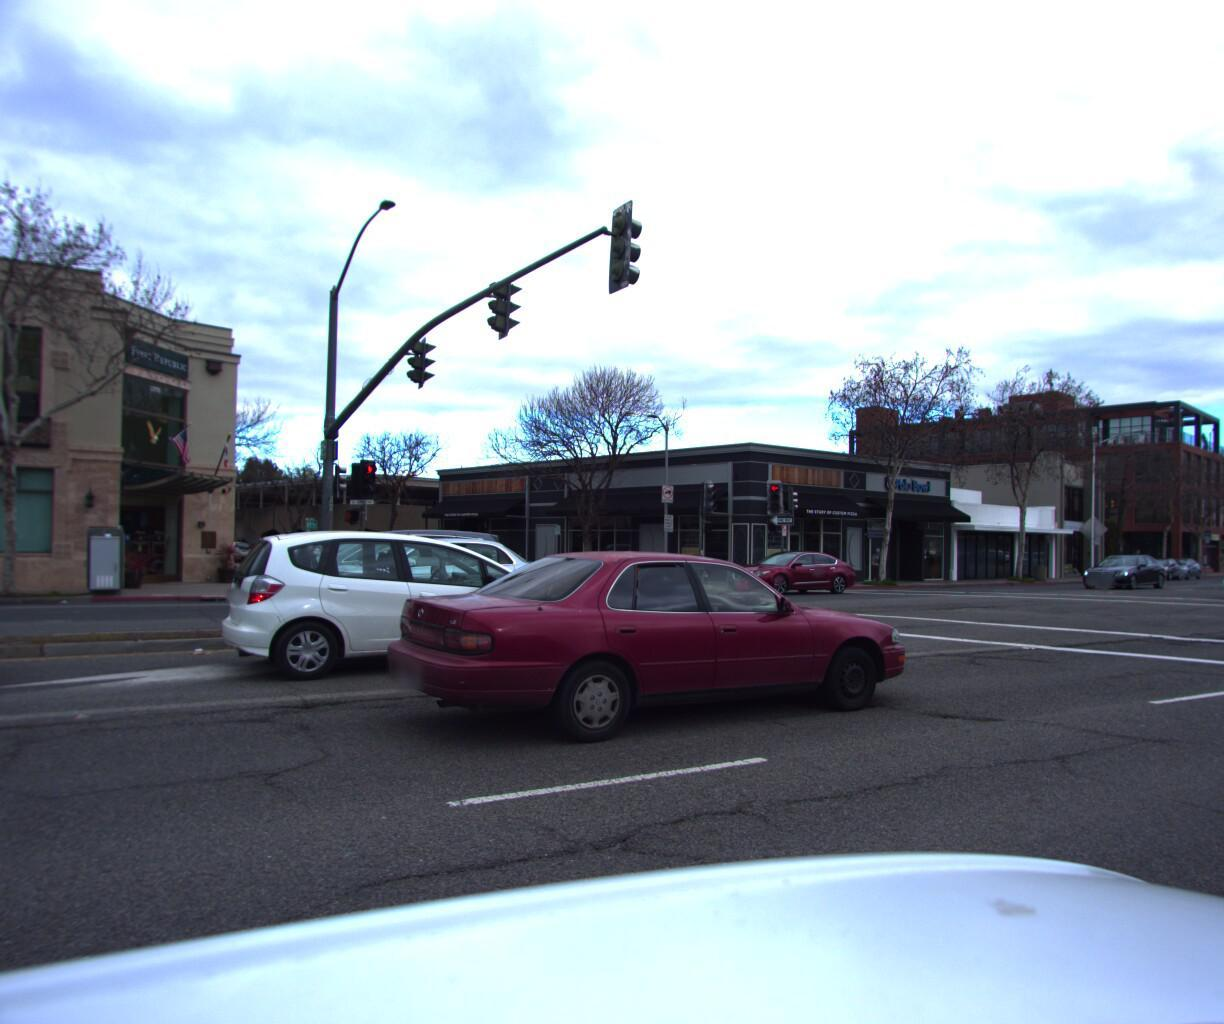car: (359, 529, 916, 761), (207, 522, 626, 691), (263, 520, 582, 624), (315, 510, 547, 601), (717, 543, 857, 595), (1073, 550, 1165, 596), (211, 533, 260, 558), (1152, 552, 1200, 576), (1205, 547, 1224, 600)
